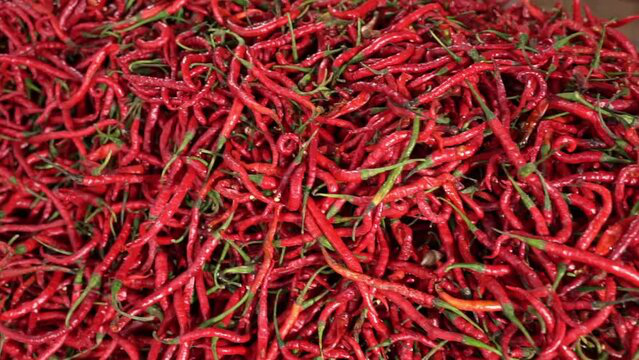Cabai: (177, 56, 464, 282)
